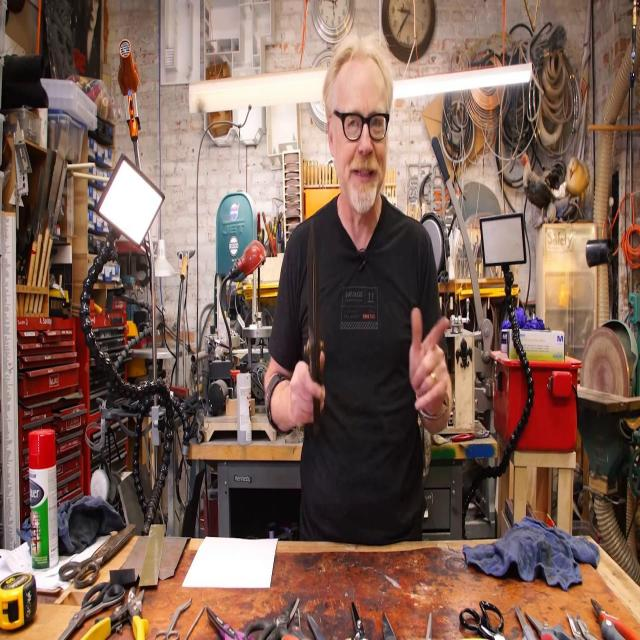scissor: (56, 522, 136, 590), (305, 222, 325, 436), (58, 579, 124, 640), (243, 597, 300, 640), (460, 601, 504, 640), (205, 606, 255, 640), (156, 595, 192, 640), (524, 606, 569, 640), (513, 601, 535, 640)
